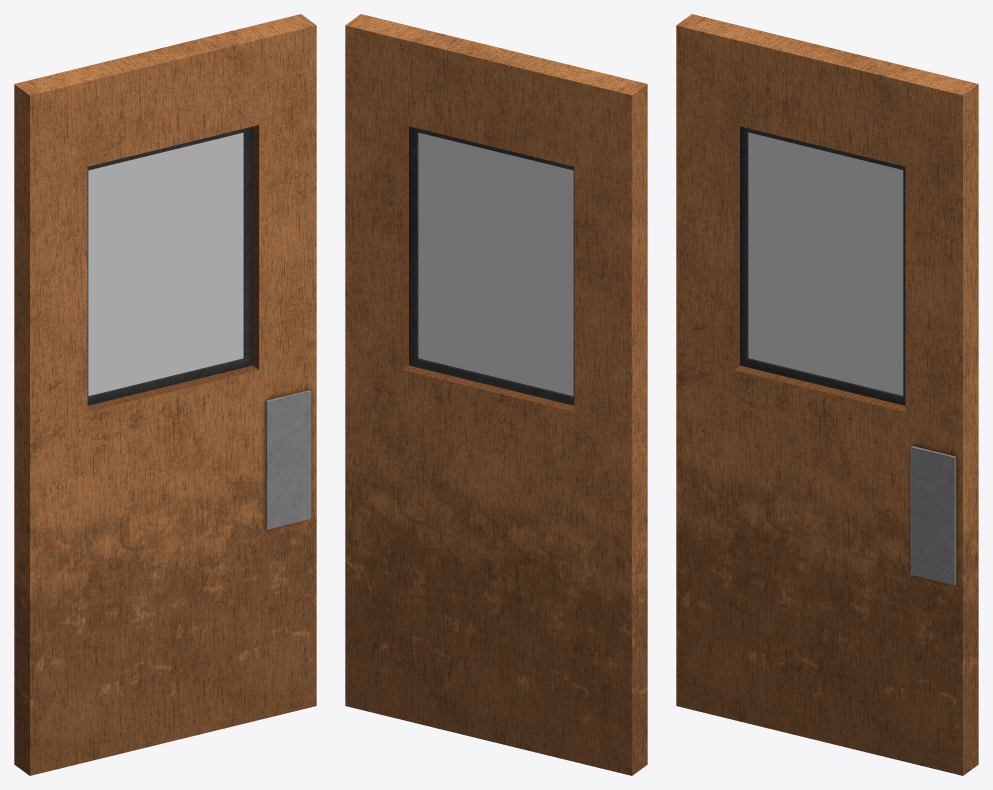
Rendered from Door.fbx.
3 renders of one model, left to right at view 1: azimuth 30°, elevation 25°; view 2: azimuth 150°, elevation 25°; view 3: azimuth 330°, elevation 25°, orthographic.
Parts seen in each view (by area): view 1: Cube.001; view 2: Cube.001; view 3: Cube.001.
Part boxes in pixels (x1,y1,x2,y2): Cube.001: (14,14,316,775); Cube.001: (345,14,647,775); Cube.001: (676,14,978,775).
Size of the model in its own units: 123 by 278 by 12.72.
